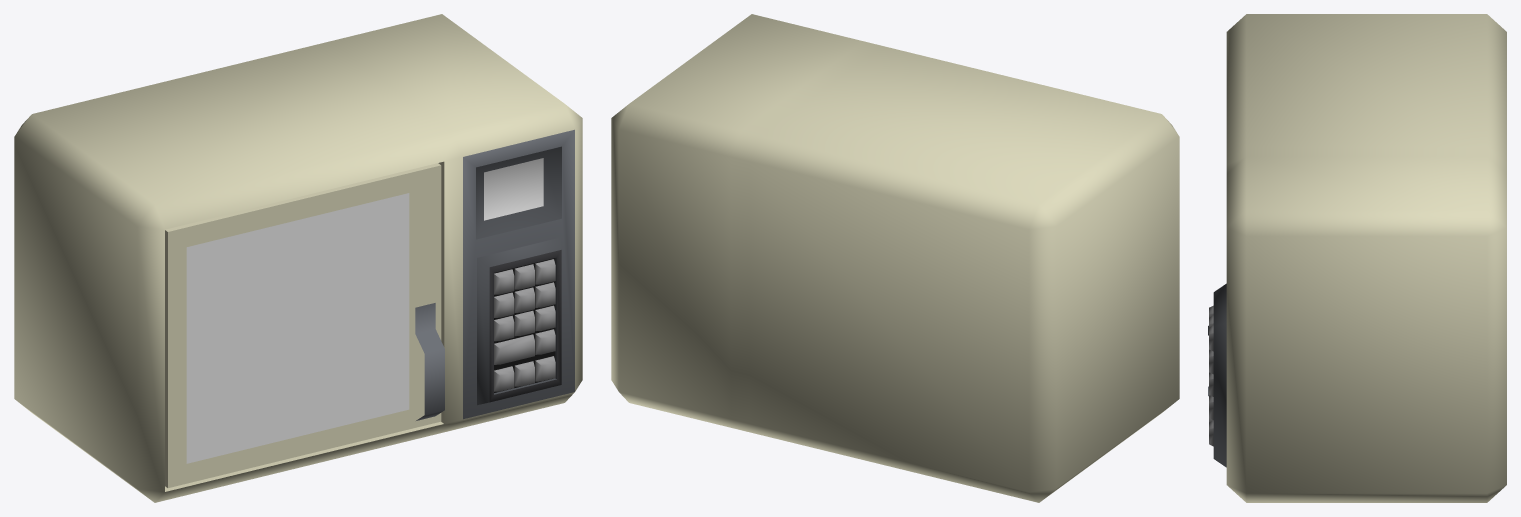
The model's file is microwave oven.fbx.
3 renders of one model, left to right at view 1: azimuth 30°, elevation 25°; view 2: azimuth 150°, elevation 25°; view 3: azimuth 270°, elevation 25°, orthographic. The views are drawn at different scales.
Parts seen in each view (by area): view 1: Microwave, MicrowaveDoor; view 2: Microwave; view 3: Microwave.
Part boxes in pixels (left/top/right/bottom): Microwave: left=14, top=14, right=582, bottom=502; MicrowaveDoor: left=165, top=163, right=444, bottom=487; Microwave: left=611, top=14, right=1179, bottom=502; Microwave: left=1209, top=14, right=1506, bottom=502.
Bounding box in the file's own units: 0.7628 × 0.4895 × 0.4529.
